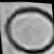no answer: (3, 1, 54, 54)
